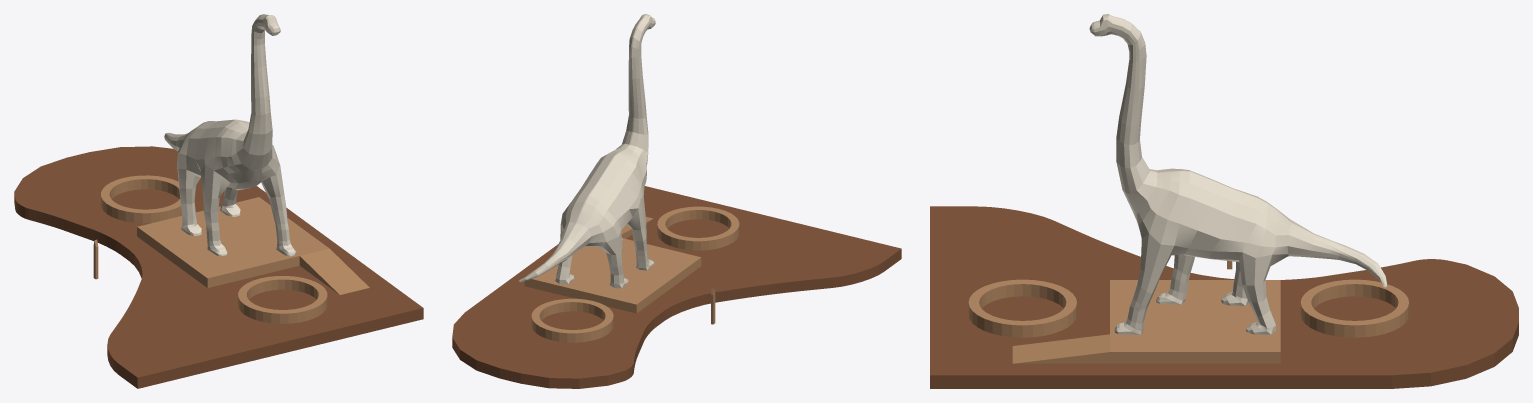
Rendered from Apatosaurio.dae.
The picture shows the model from 3 angles, left to right: view 1: azimuth 30°, elevation 25°; view 2: azimuth 150°, elevation 25°; view 3: azimuth 270°, elevation 25°; orthographic projection. The views are drawn at different scales.
Visible parts, largest first — view 1: Cube.001, Plane, Cube.002, Cylinder.005, Cylinder, Cube.003; view 2: Cube.001, Plane, Cube.002, Cylinder.005, Cylinder; view 3: Cube.001, Plane, Cube.002, Cylinder.005, Cylinder, Cube.003.
Part boxes in pixels (bbox=[...]): Cube.001: bbox=[14, 146, 423, 388]; Plane: bbox=[164, 14, 295, 256]; Cube.002: bbox=[137, 197, 329, 287]; Cylinder.005: bbox=[238, 276, 327, 323]; Cylinder: bbox=[101, 175, 181, 223]; Cube.003: bbox=[299, 248, 369, 294]; Cube.001: bbox=[452, 186, 901, 388]; Plane: bbox=[517, 14, 655, 288]; Cube.002: bbox=[524, 238, 701, 313]; Cylinder.005: bbox=[657, 206, 739, 250]; Cylinder: bbox=[531, 298, 613, 342]; Cube.001: bbox=[930, 206, 1518, 388]; Plane: bbox=[1089, 14, 1387, 334]; Cube.002: bbox=[1110, 280, 1280, 363]; Cylinder.005: bbox=[968, 279, 1076, 337]; Cylinder: bbox=[1300, 279, 1409, 337]; Cube.003: bbox=[1012, 334, 1109, 363].
Bounding box in the file's own units: 37.13 × 54.72 × 33.48.
